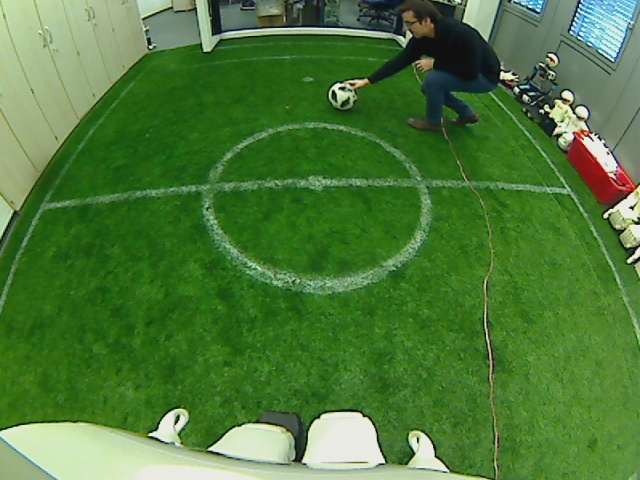ball: (327, 82, 357, 109)
